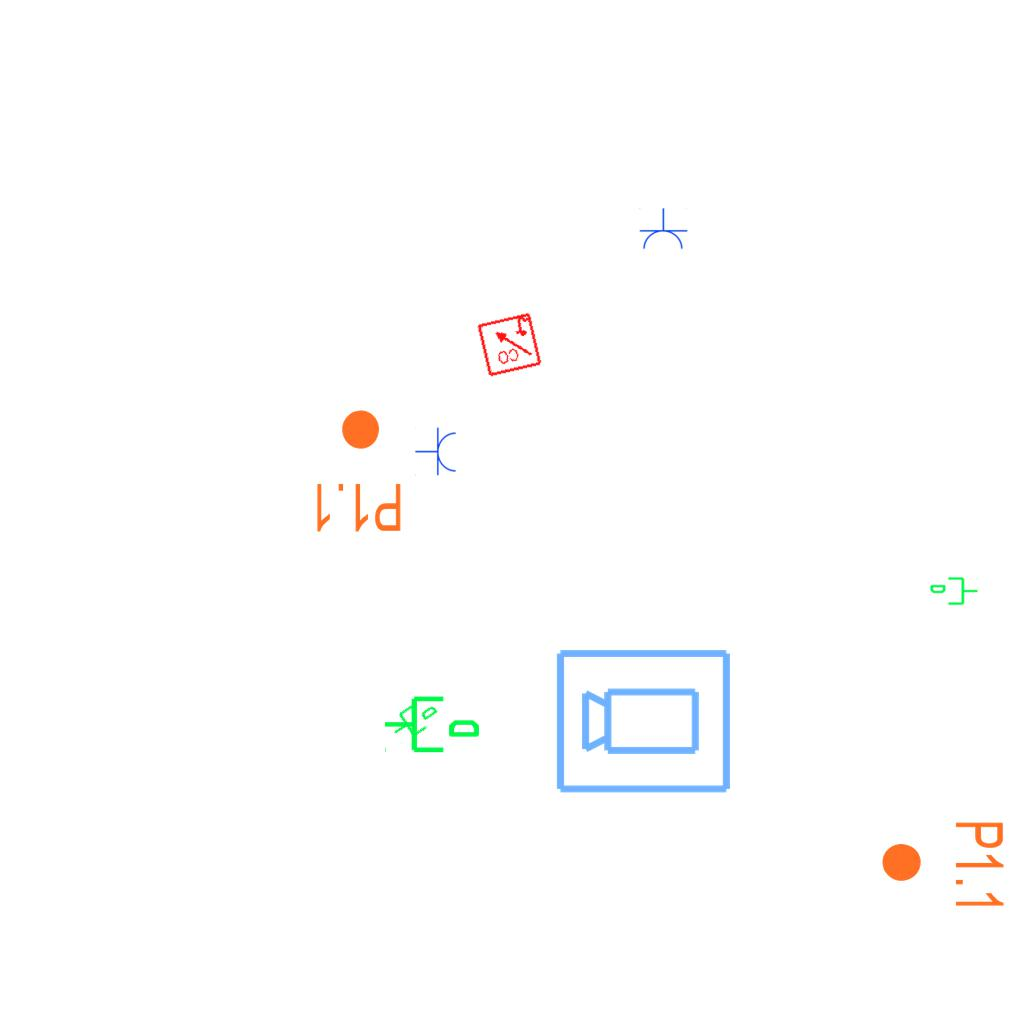Datenanschluss_einfach: (382, 688, 482, 757), (383, 691, 445, 747), (929, 575, 979, 609)
Downlight_LED_Einbauleuchten_Flur: (311, 407, 404, 535), (879, 819, 1007, 912)
KFO_Kamera_mit_Festobjektiv: (553, 643, 735, 797)
ROA_Rauchmelder_optisch_mit_Signalgeber_(Sockelsirene): (475, 310, 543, 378)
Schukosteckdose_einfach: (415, 427, 458, 477), (638, 208, 688, 251)
